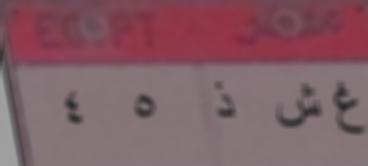4: (58, 90, 88, 130)
5: (130, 85, 162, 128)
ghayn: (330, 76, 368, 144)
sheen: (274, 80, 322, 135)
zaal: (207, 76, 238, 124)
